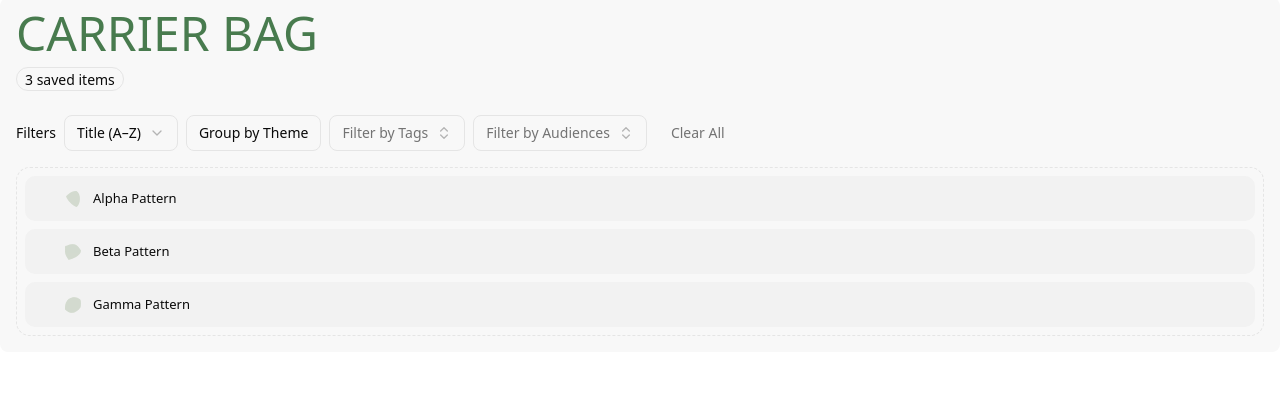
CarrierBagContent Filtering and Ordering › groups items by theme when toggle is clicked
The image size is (1280, 417).
Click the button "Group by Theme".
click(254, 133)  # box [186,115,321,151]
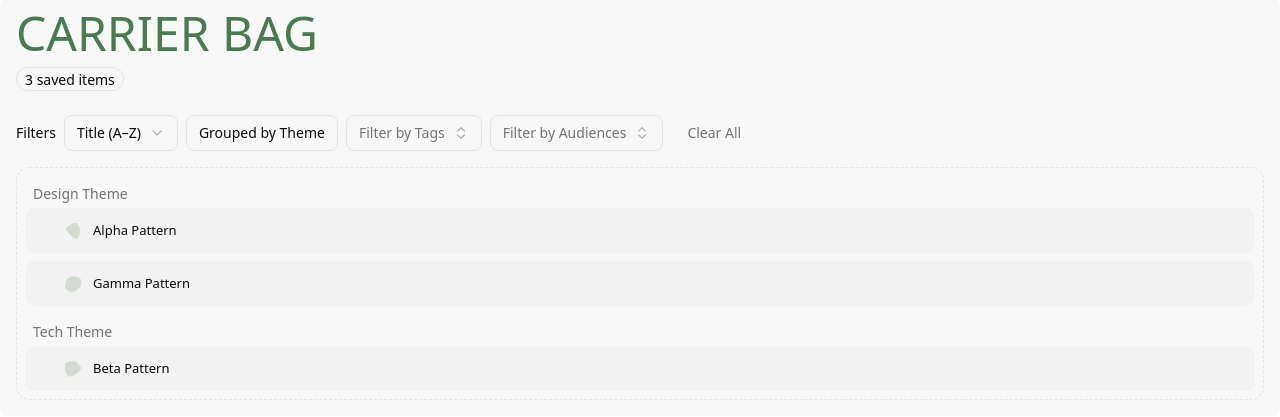
expect the heading "Design Theme" is shown: met, box [33,184,128,203]
expect the heading "Tech Theme" is shown: met, box [33,322,112,341]
